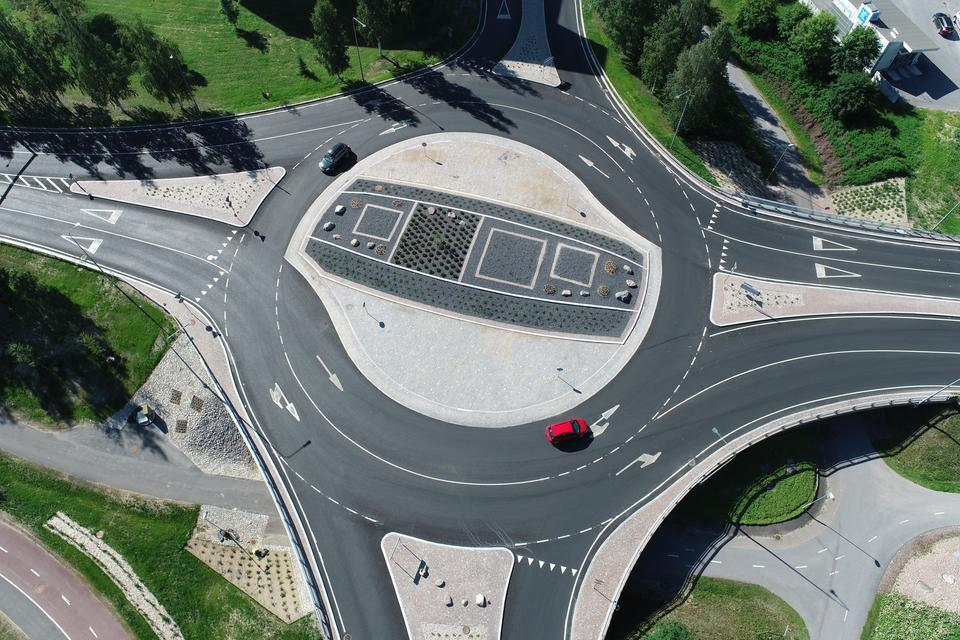roundabout: (157, 34, 781, 619)
